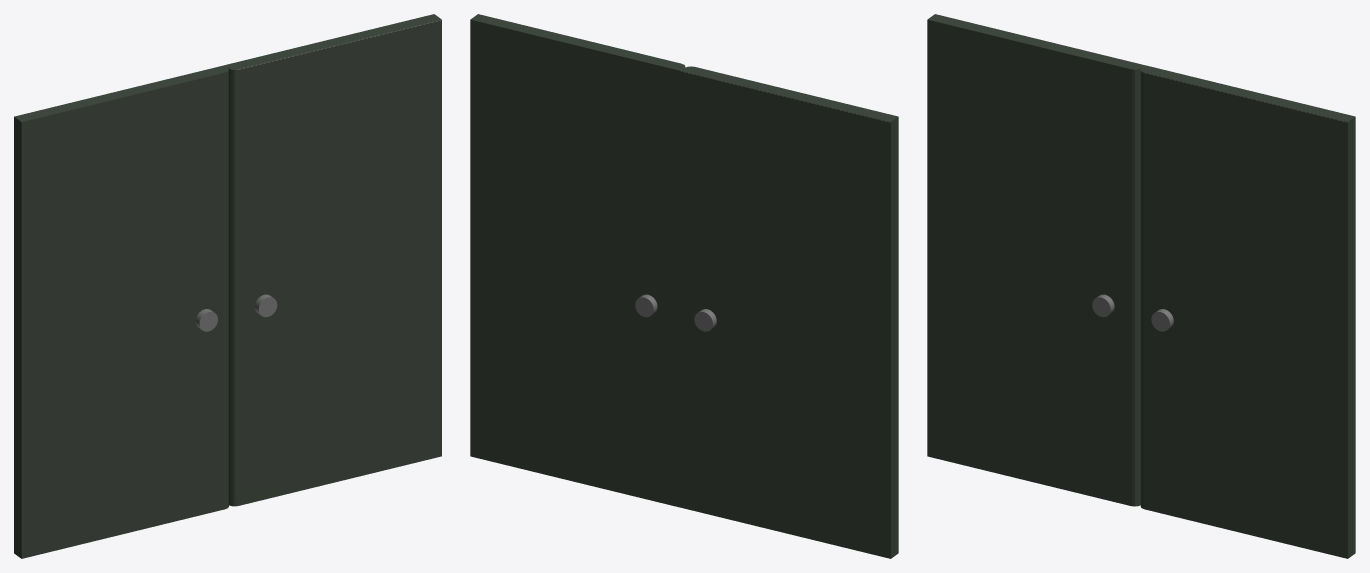
Rendered from CafeteriaDoor (1).fbx.
3 renders of one model, left to right at view 1: azimuth 30°, elevation 25°; view 2: azimuth 150°, elevation 25°; view 3: azimuth 330°, elevation 25°, orthographic.
Parts seen in each view (by area): view 1: polySurface6; view 2: polySurface6; view 3: polySurface6.
Boxes of the visible parts, x1,y1,x2,y2 form: polySurface6: (14, 14, 441, 558); polySurface6: (470, 14, 898, 558); polySurface6: (927, 14, 1355, 558).
Size of the model in its own units: 8.7 by 8.64 by 0.7474.
2 materials, 1 textured.
